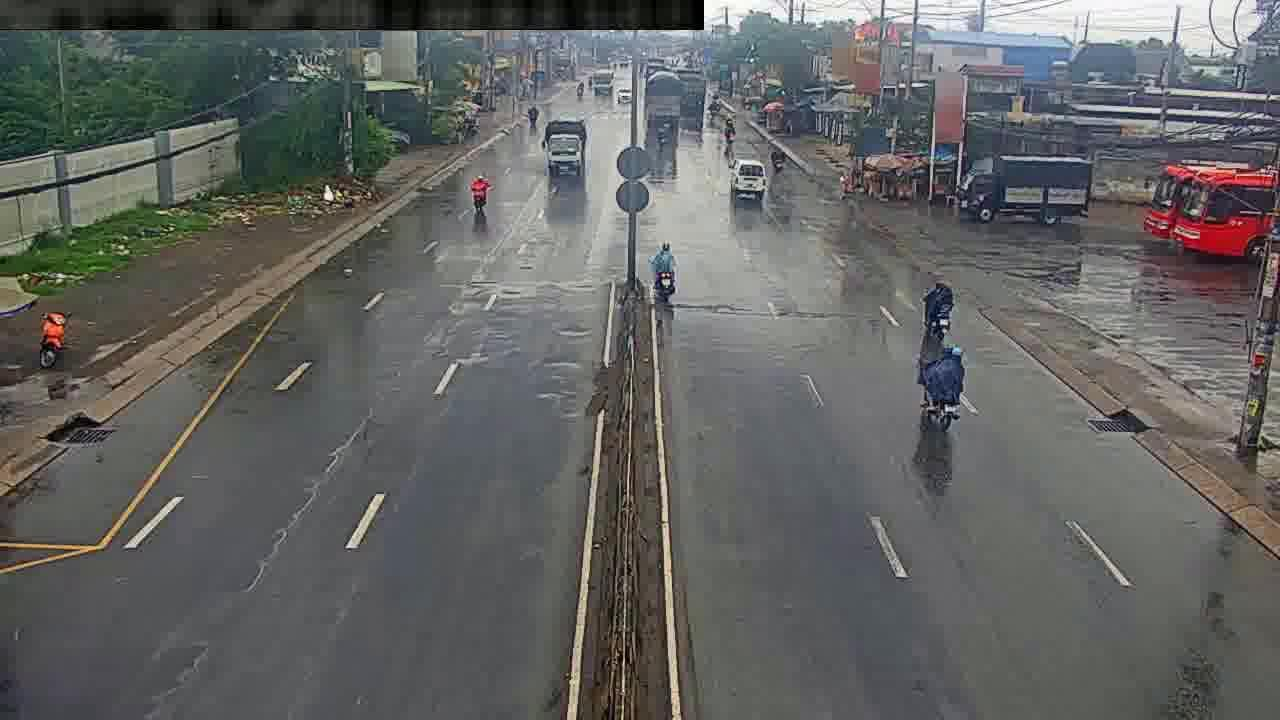8: (649, 74, 694, 133), (545, 115, 587, 174)
container: (734, 152, 768, 194)
motorbike: (922, 334, 962, 434), (35, 297, 71, 373), (923, 275, 952, 347), (654, 242, 679, 302), (470, 168, 493, 217), (769, 140, 788, 170), (719, 116, 731, 146)
